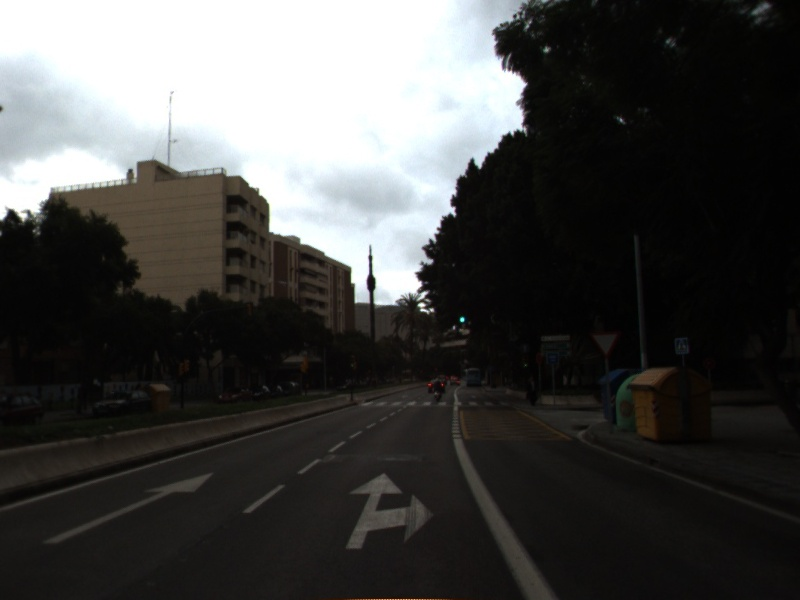STRAIGHT: (39, 470, 218, 547)
STRAIGHT_RIGHT: (341, 469, 439, 552)
